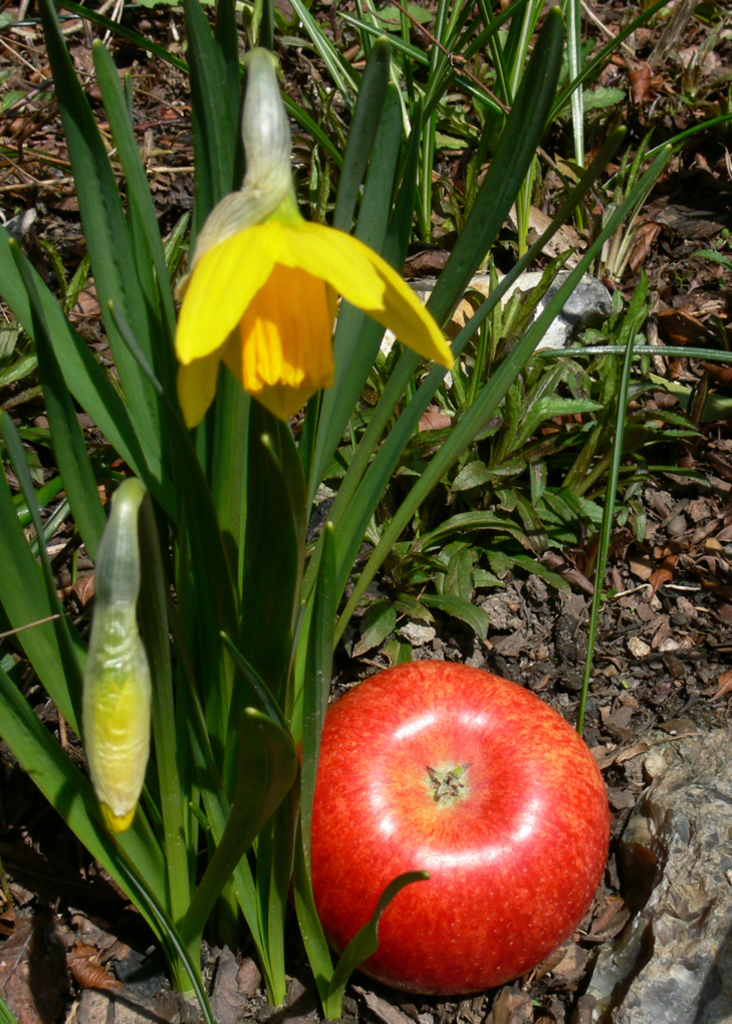Apple: (297, 664, 614, 1002)
